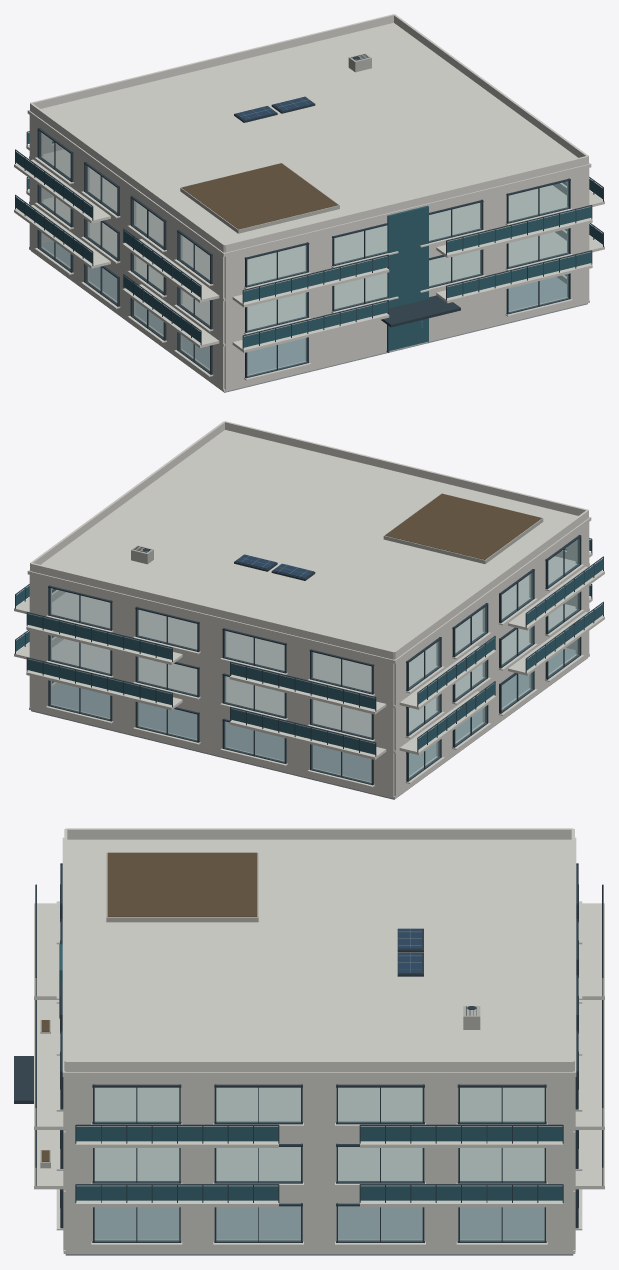
File: Apartment_3.fbx
3 renders of one model, top to bottom at view 1: azimuth 30°, elevation 25°; view 2: azimuth 150°, elevation 25°; view 3: azimuth 270°, elevation 25°, orthographic. The views are drawn at different scales.
Parts seen in each view (by area): view 1: Apartment_3.020; view 2: Apartment_3.020; view 3: Apartment_3.020.
Boxes of the visible parts, x1,y1,x2,y2 form: Apartment_3.020: (14, 14, 604, 392); Apartment_3.020: (14, 421, 604, 799); Apartment_3.020: (14, 828, 604, 1255).
Bounding box in the file's own units: 29 × 10.37 × 27.95.
